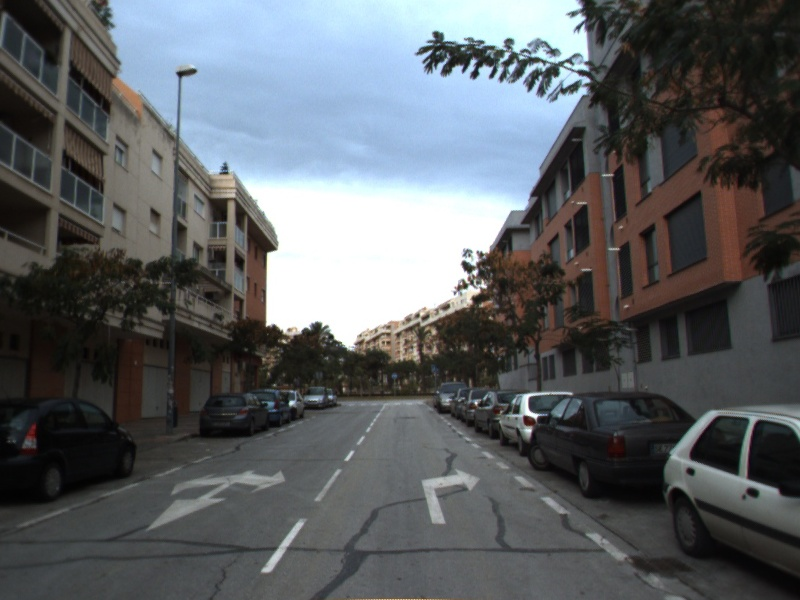RIGHT: (420, 467, 482, 526)
